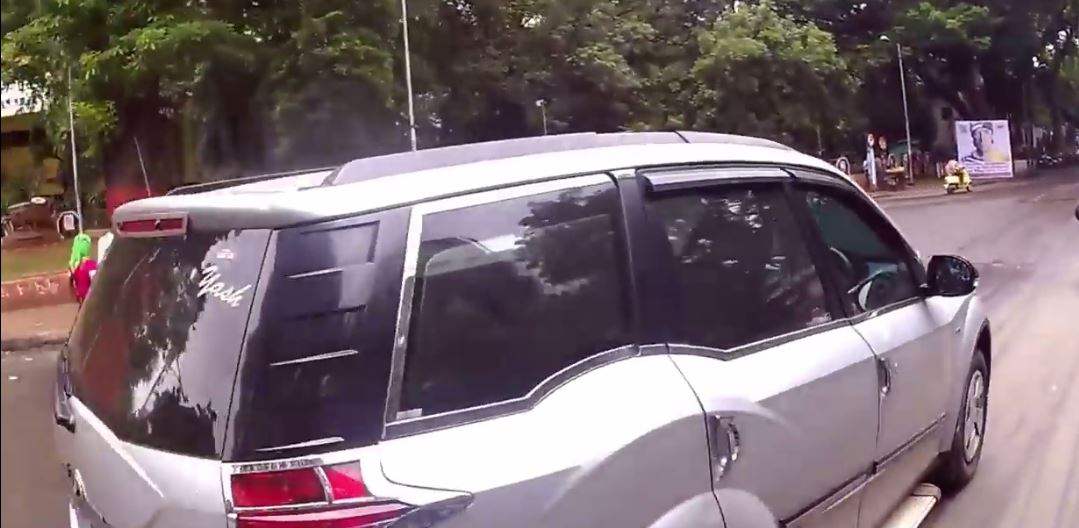car: (42, 130, 997, 528)
